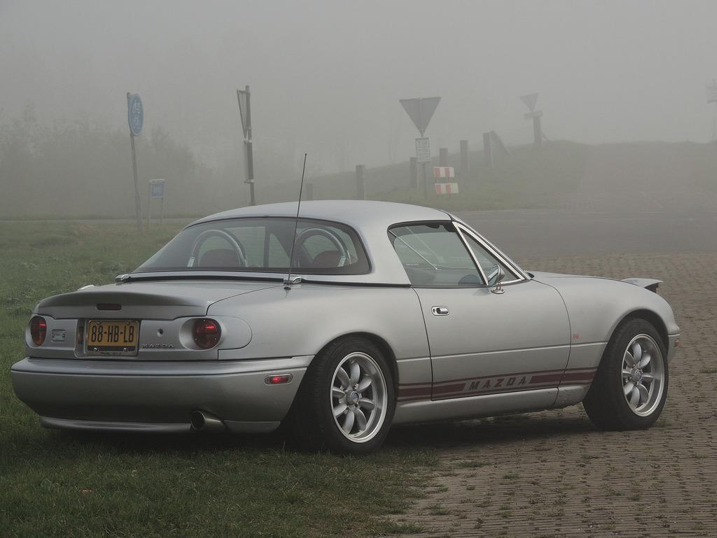car: (8, 196, 687, 461)
